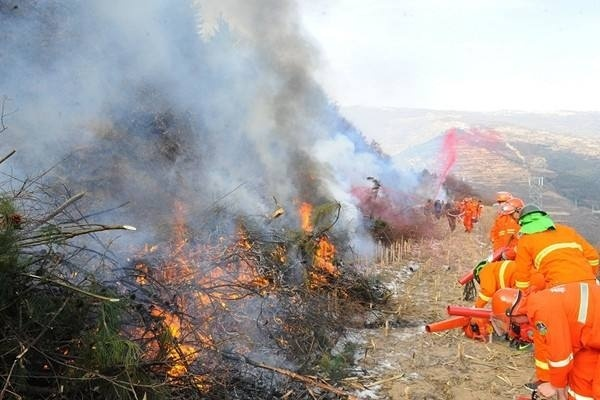fire: (123, 192, 338, 391)
